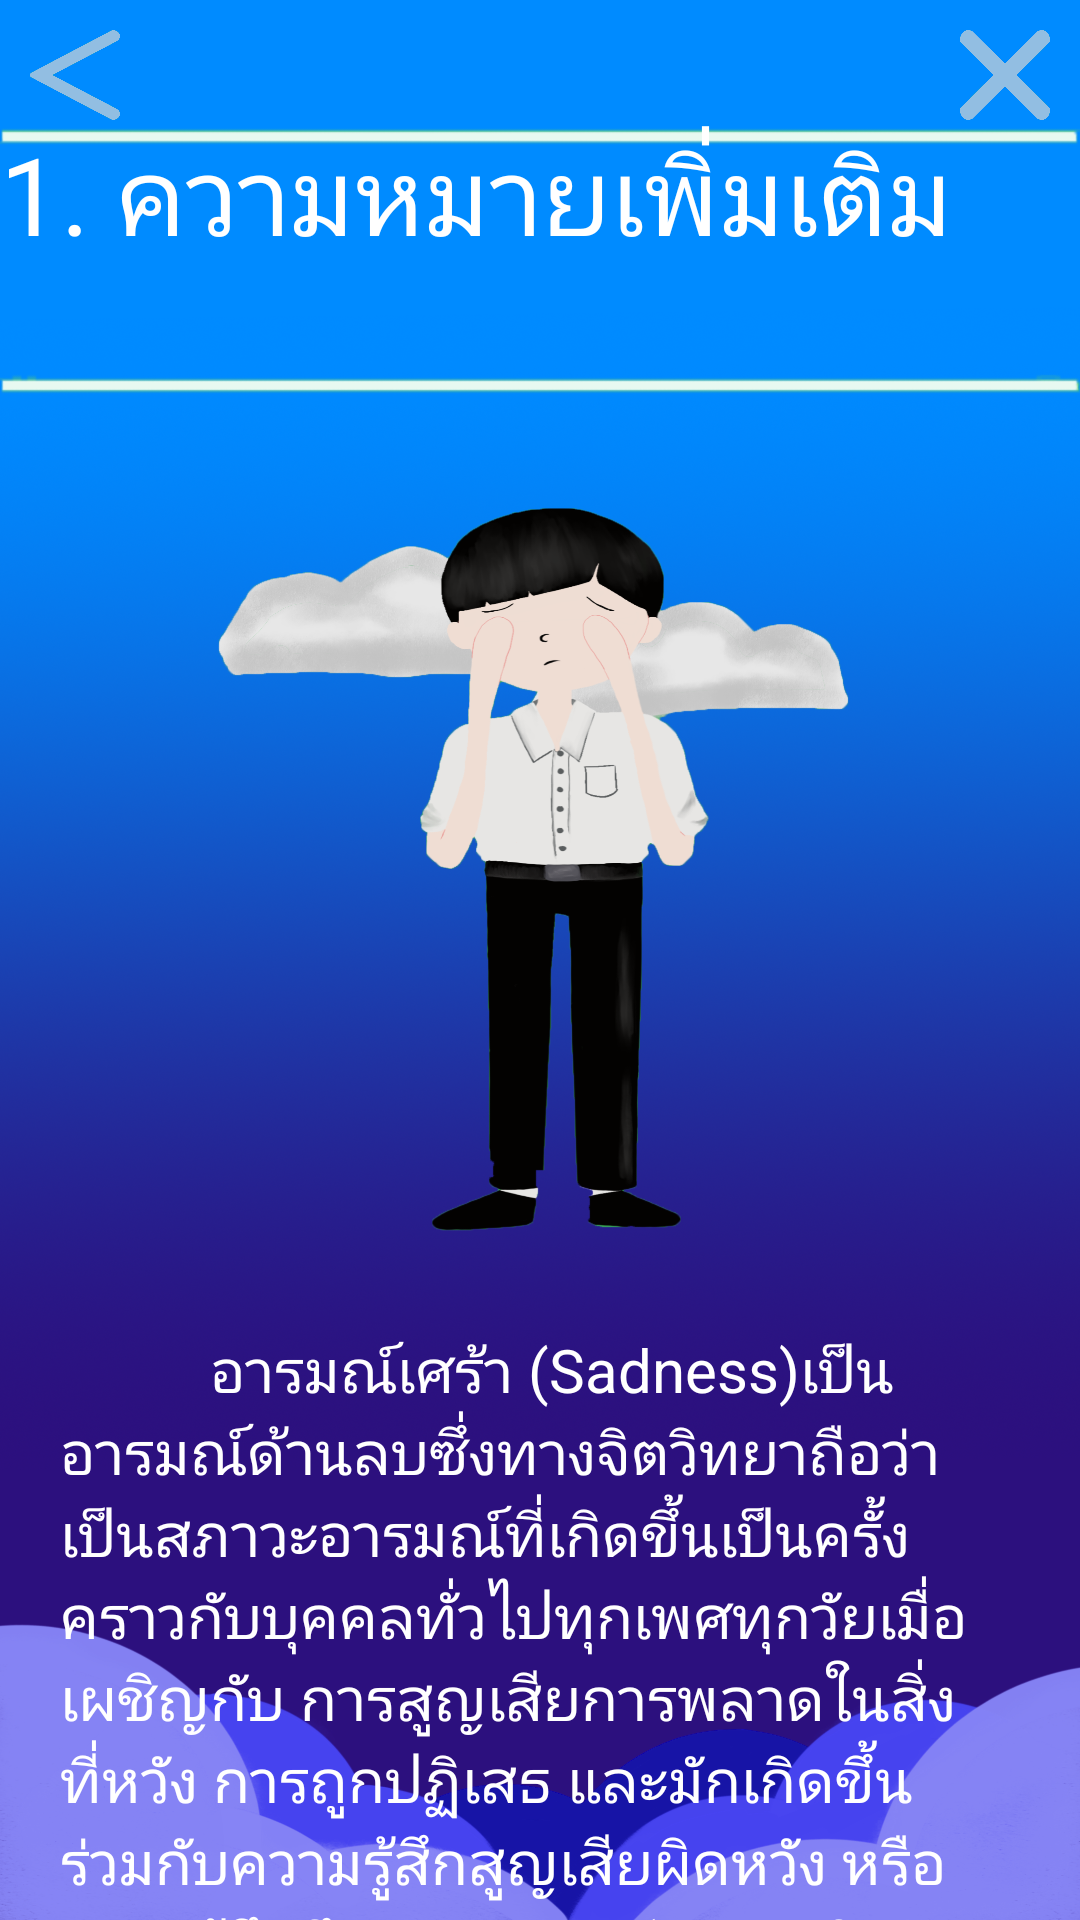

Icons on this 1080x1920 Android screen, each with its box as (x1,y1,x2,y2):
backbut: (30,30,120,120)
exit: (960,30,1050,120)
